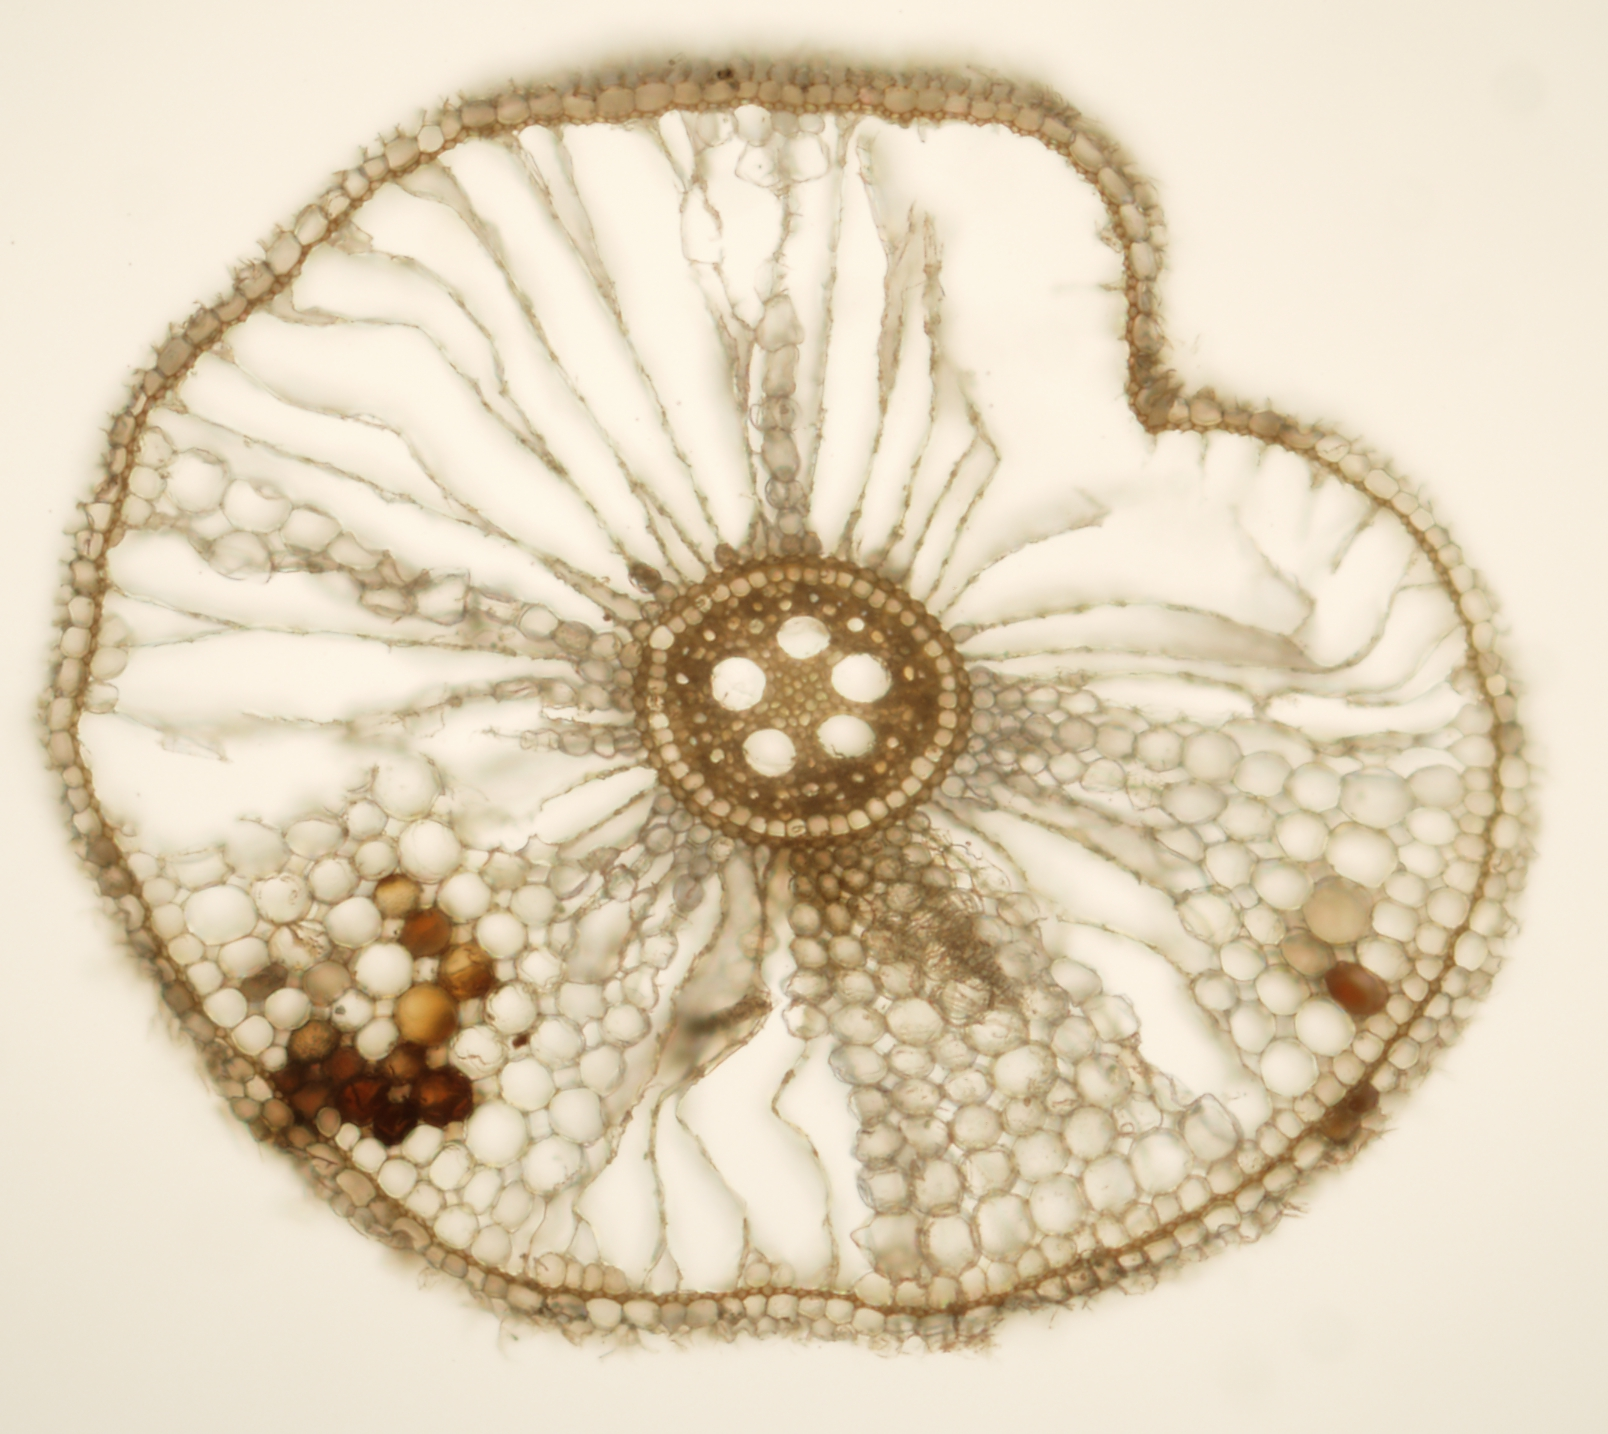lm: (832, 653, 893, 702), (711, 657, 767, 710), (816, 714, 876, 759), (743, 728, 796, 777), (776, 616, 830, 657)
